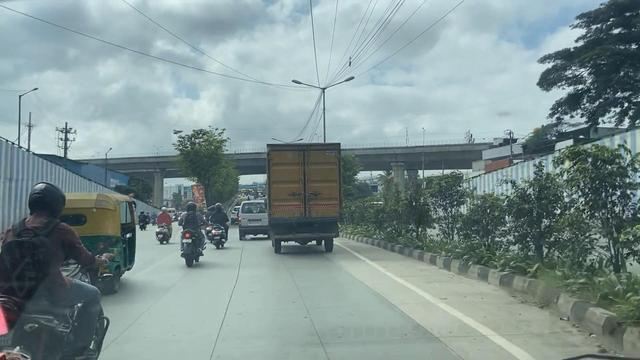HMV: (258, 138, 343, 253)
LMV: (180, 200, 202, 259), (210, 200, 229, 255)
